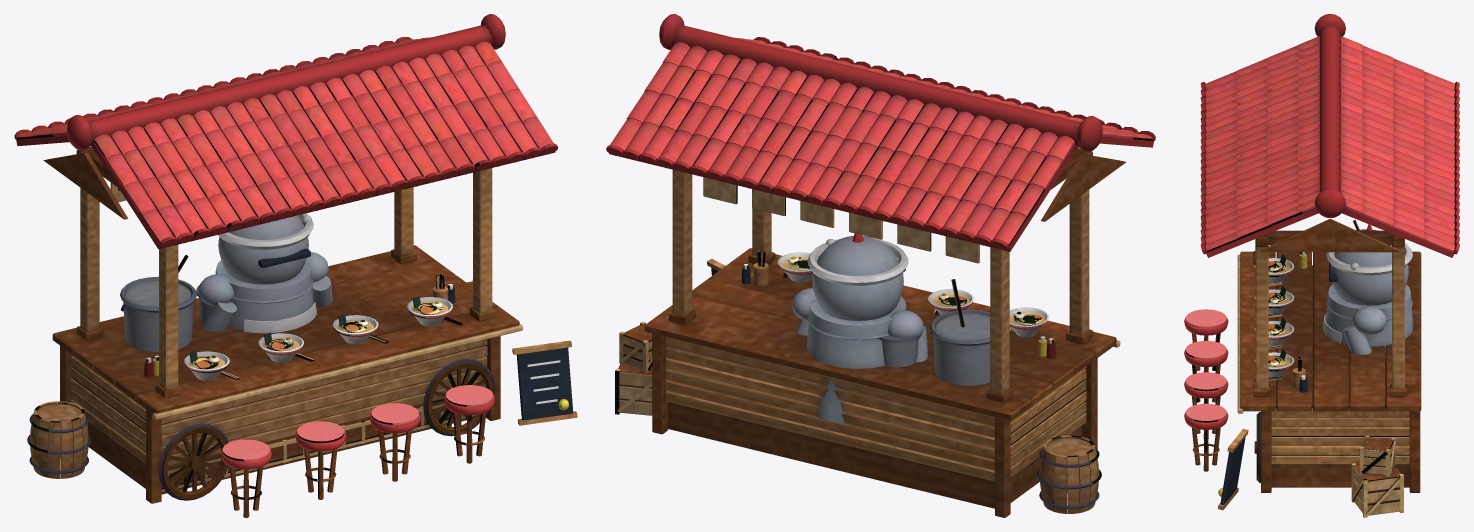
The model's file is ramenStall.glb.
3 renders of one model, left to right at view 1: azimuth 30°, elevation 25°; view 2: azimuth 150°, elevation 25°; view 3: azimuth 270°, elevation 25°, orthographic. The views are drawn at different scales.
Parts seen in each view (by area): view 1: box; view 2: box; view 3: box.
Boxes of the visible parts, x1,y1,x2,y2 form: box: [14, 14, 577, 517]; box: [606, 14, 1155, 517]; box: [1184, 14, 1459, 517].
Size of the model in its own units: 11.31 by 8.6 by 6.67.
Materials: 1 (1 with a texture image).
